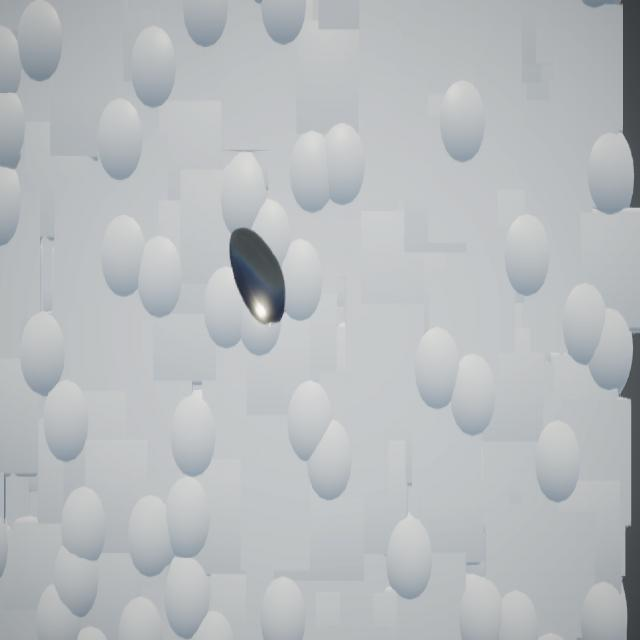top_spoon: (231, 228, 286, 326)
